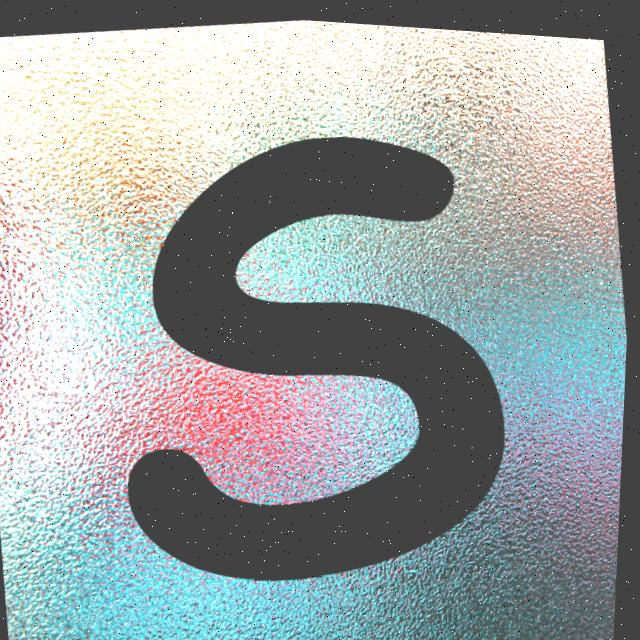S: (132, 132, 508, 575)
